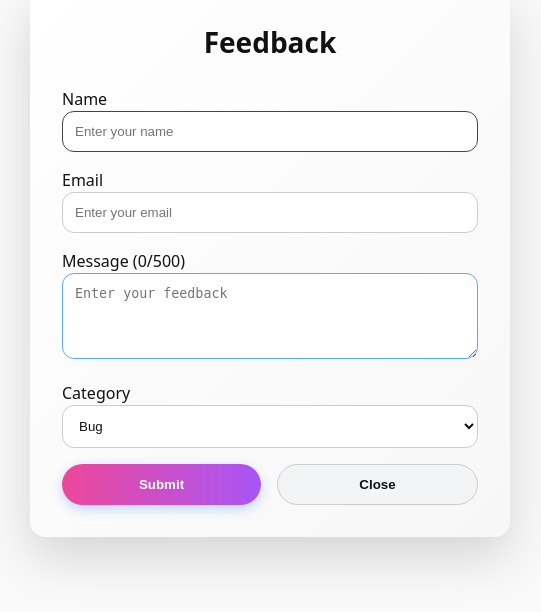
Test: shows error when message is empty
Click the button "Submit".
click(162, 484)  # box x1=62 y1=464 x2=261 y2=505
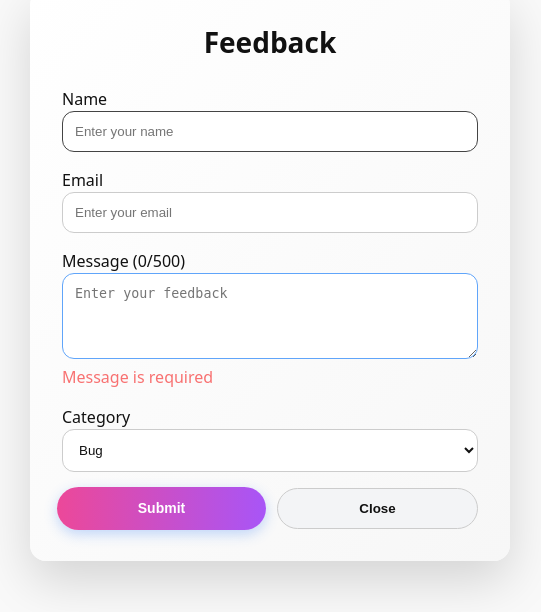
Now the text "Message is required" is shown, box x1=62 y1=366 x2=213 y2=388
